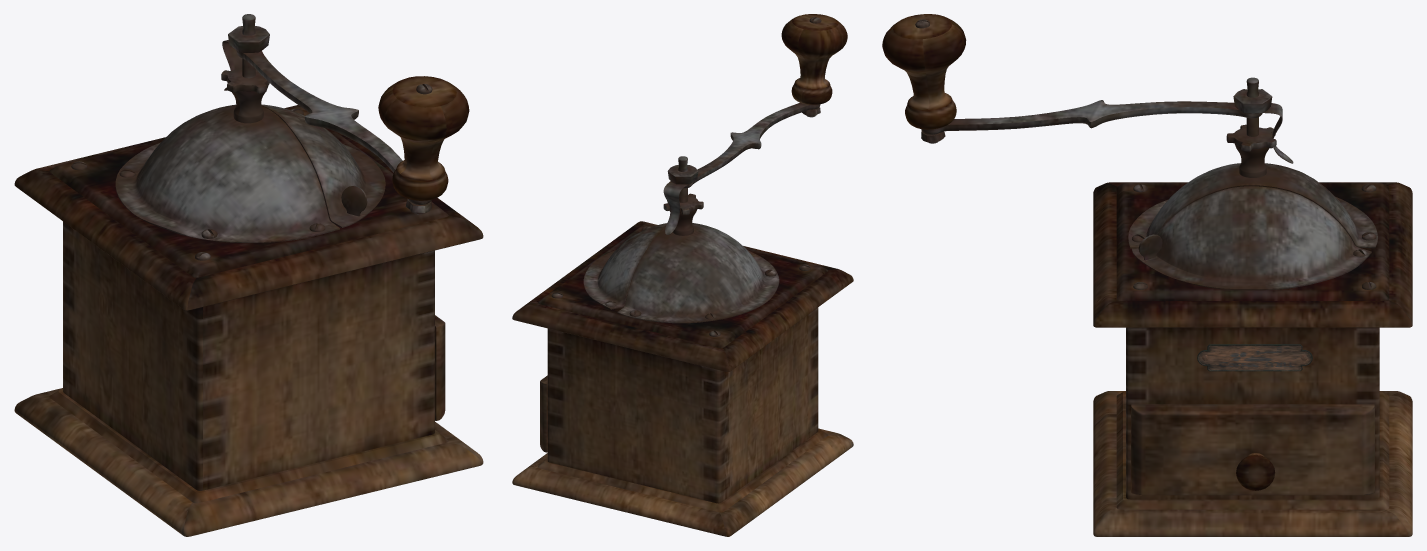
File: coffee-mill.glb
The picture shows the model from 3 angles, left to right: view 1: azimuth 30°, elevation 25°; view 2: azimuth 150°, elevation 25°; view 3: azimuth 270°, elevation 25°; orthographic projection. The views are drawn at different scales.
Parts seen in each view (by area): view 1: coffee-mill; view 2: coffee-mill; view 3: coffee-mill.
Part boxes in pixels (x1,y1,x2,y2): coffee-mill: (14, 14, 483, 536); coffee-mill: (512, 14, 853, 536); coffee-mill: (882, 14, 1412, 536).
Bounding box in the file's own units: 0.2245 × 0.3311 × 0.3553.
Materials: 2 (2 with a texture image).
